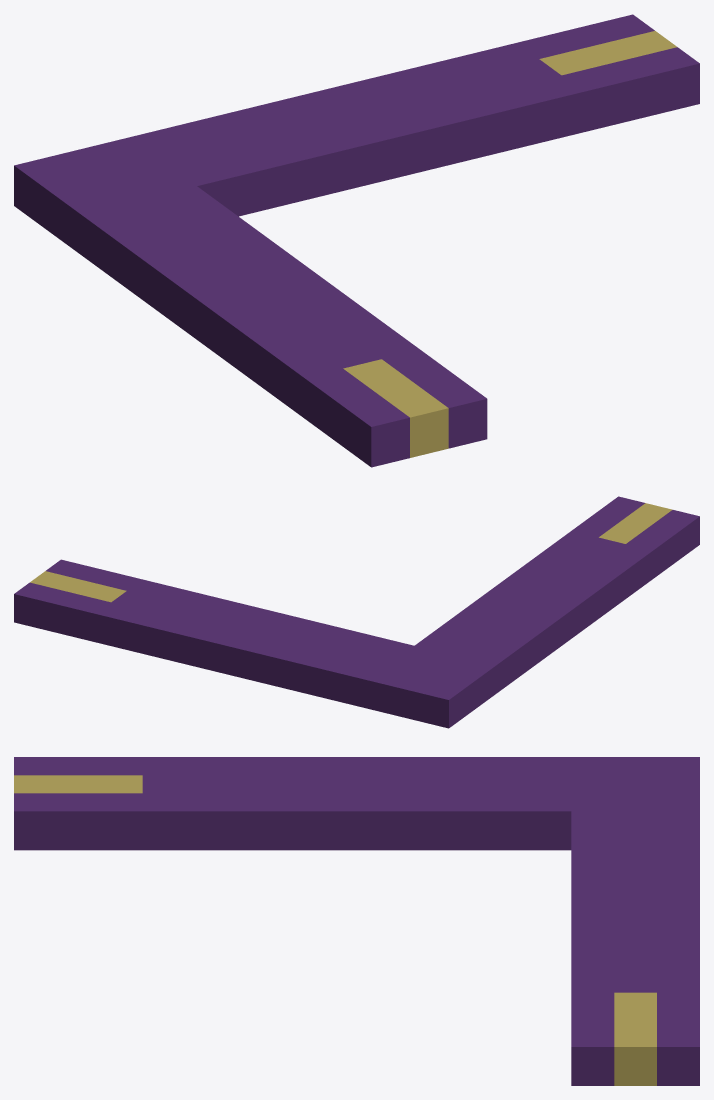
File: vox_boomerang.glb
3 views of the same model, one above another, from view 1: azimuth 30°, elevation 25°; view 2: azimuth 150°, elevation 25°; view 3: azimuth 270°, elevation 25° (orthographic). The views are drawn at different scales.
Visible parts, largest first — view 1: vox_boomerang; view 2: vox_boomerang; view 3: vox_boomerang.
Boxes of the visible parts, x1,y1,x2,y2 form: vox_boomerang: [14, 14, 699, 467]; vox_boomerang: [14, 496, 699, 728]; vox_boomerang: [14, 757, 699, 1085].
Size of the model in its own units: 0.32 by 0.02 by 0.32.
